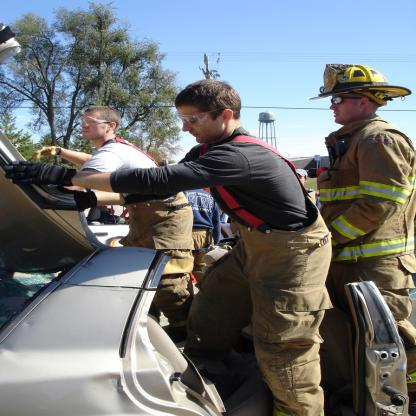Helmet: (306, 60, 408, 106)
